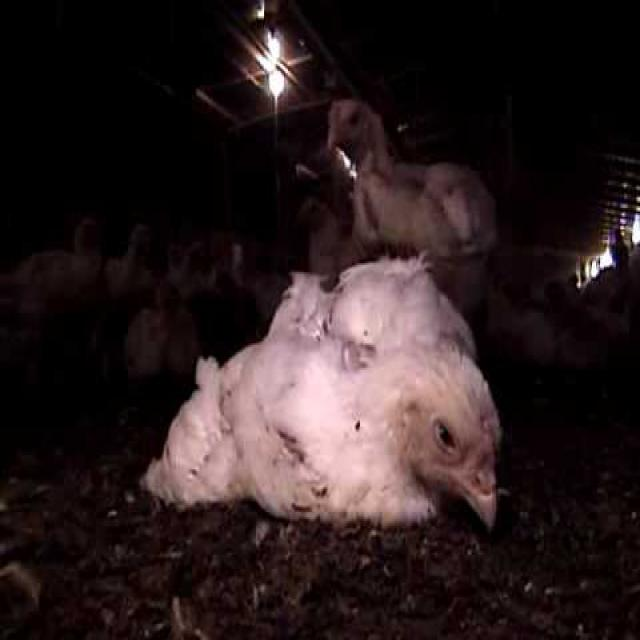Unhealthy: (113, 238, 528, 539)
